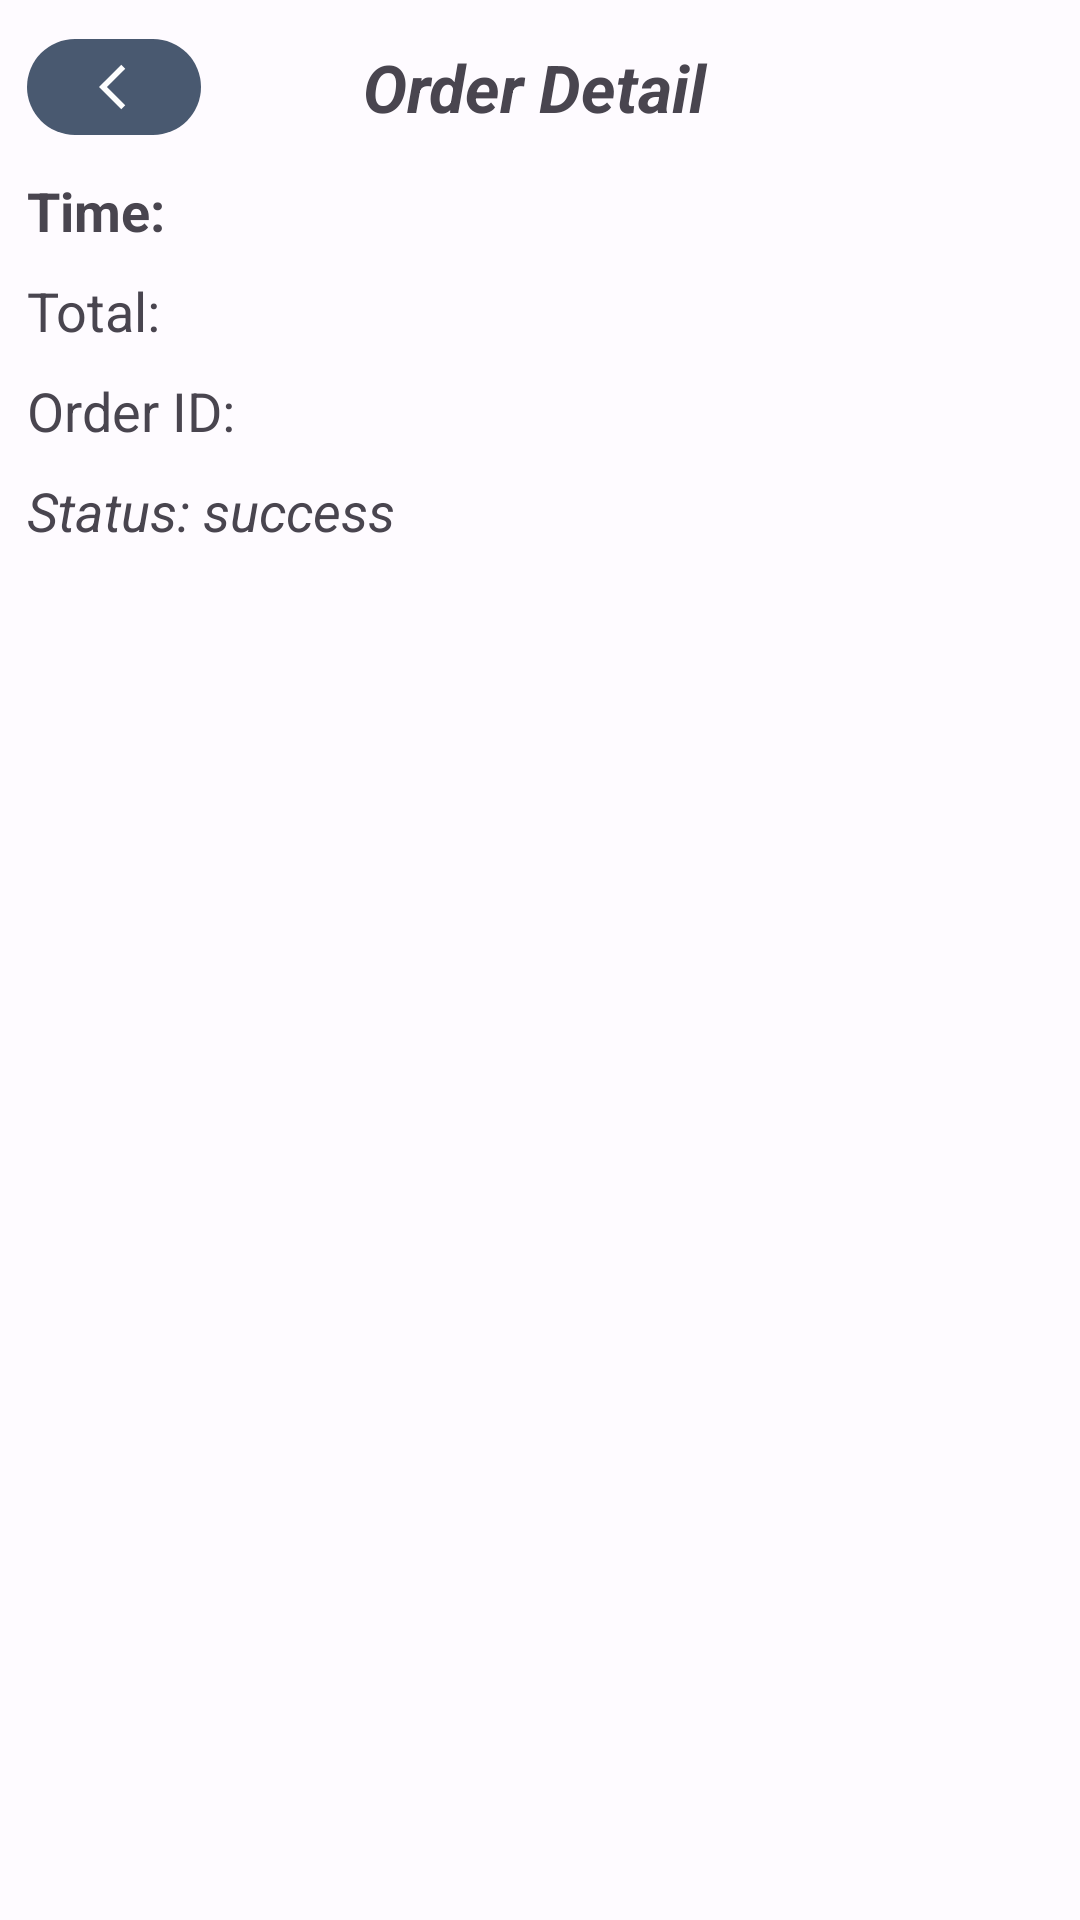

Point at icon controls on the screen. Image size 1080px x 1920px, points as [x,y].
back: [114,87]
